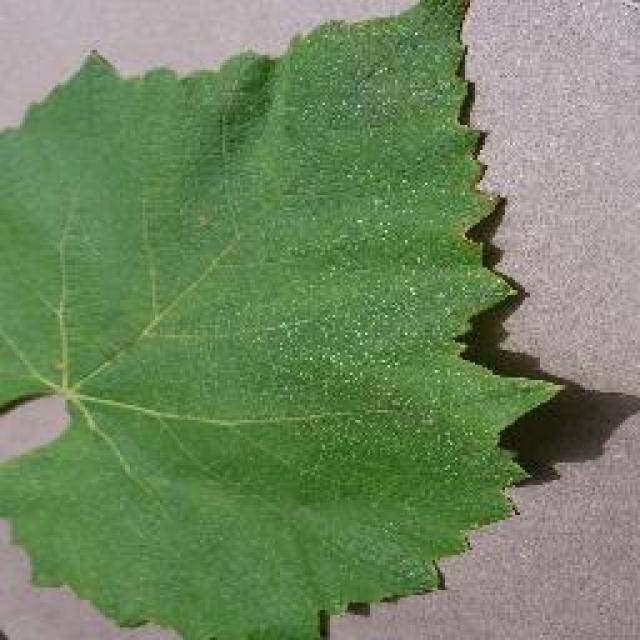Healthy: (0, 2, 558, 640)
